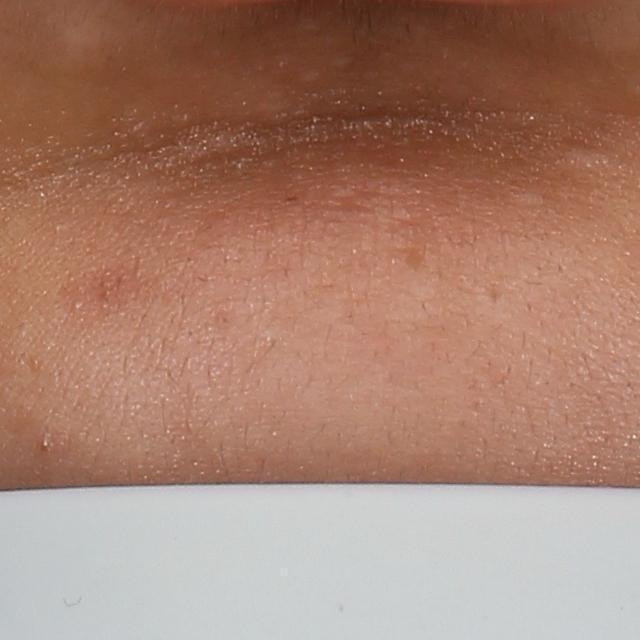atrophic_scar: (485, 280, 501, 306)
hypertrophic_scar: (544, 140, 626, 174)
